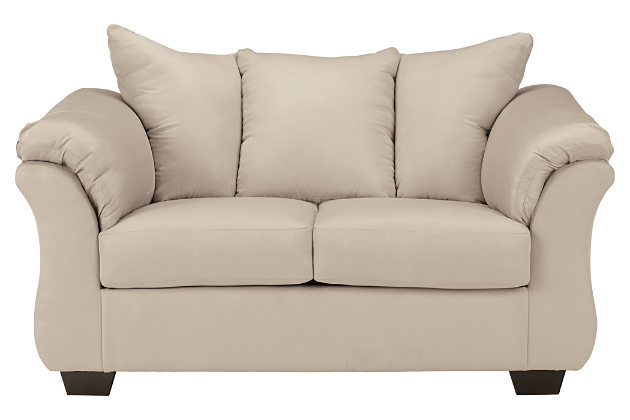chairs: (15, 23, 618, 403)
